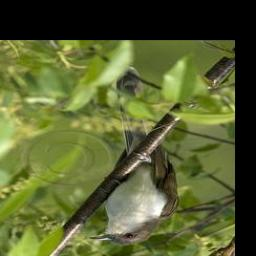Cuckoo: (88, 90, 177, 251)
